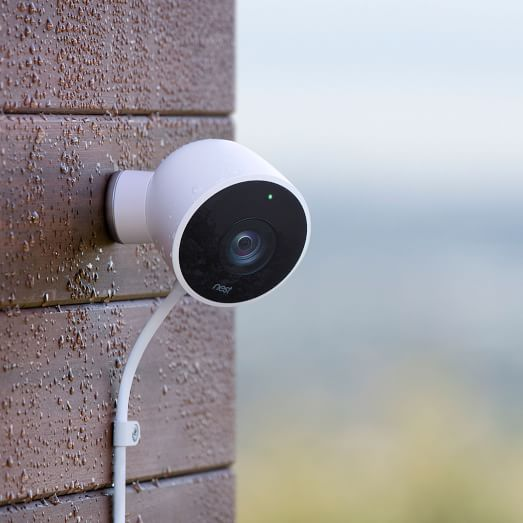Nest Cam: (108, 127, 322, 312)
